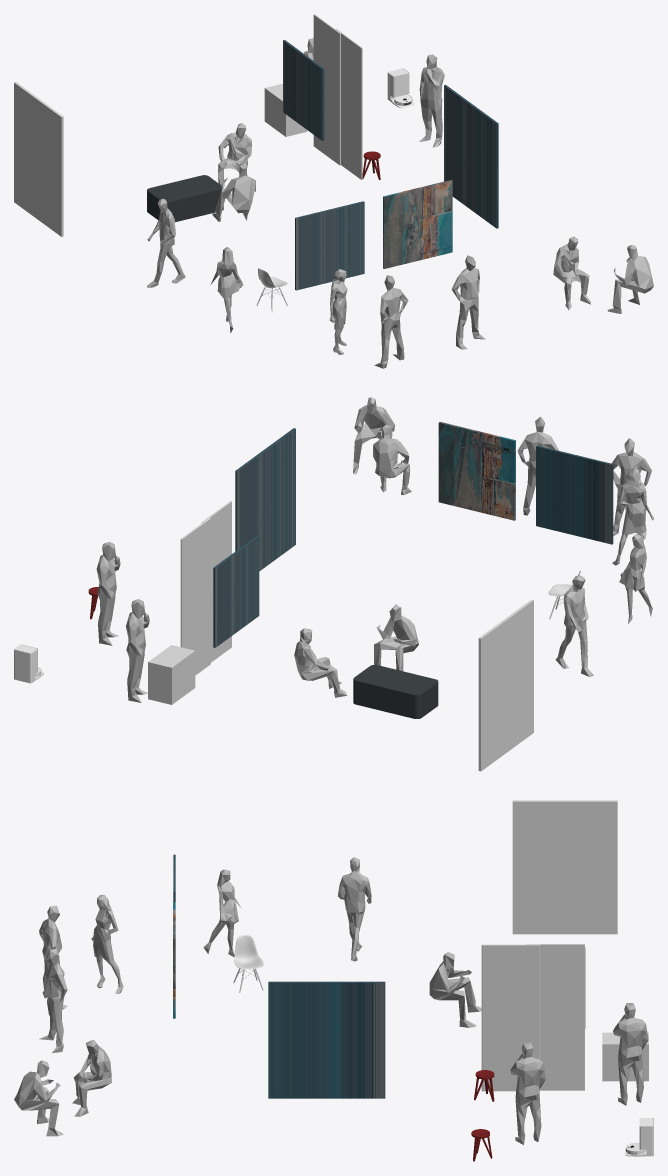
Rendered from EG_People&Möbel.001.glb.
3 views of the same model, one above another, from view 1: azimuth 30°, elevation 25°; view 2: azimuth 150°, elevation 25°; view 3: azimuth 270°, elevation 25° (orthographic). The views are drawn at different scales.
Parts seen in each view (by area): view 1: Curve.027, Gemälde.007, Gemälde.006, Gemälde.005, Gemälde.004, Curve.025, Curve.031, _Curve.002, SM_People_Lowpoly_05.004, SM_People_Lowpoly_06.013, SM_People_Lowpoly_06.014, SM_People_Lowpoly_01.003 (+8 smaller); view 2: Curve.027, Gemälde.005, Gemälde.006, Gemälde.007, Curve.031, Gemälde.004, _Curve.002, Curve.026, SM_People_Lowpoly_08.002, Curve.025, SM_People_Lowpoly_05.004, SM_People_Lowpoly_05.003 (+9 smaller); view 3: Curve.027, Gemälde.007, Curve.025, Curve.031, SM_People_Lowpoly_05.004, SM_People_Lowpoly_05.003, SM_People_Lowpoly_01.004, SM_People_Lowpoly_01.003, SM_People_Lowpoly_08.002, SM_People_Lowpoly_02.004, SM_People_Lowpoly_06.013, SM_People_Lowpoly_04.005 (+5 smaller).
Part boxes in pixels (x1,y1,x2,y2): Curve.027: [14, 82, 63, 236]; Gemälde.007: [444, 85, 498, 228]; Gemälde.006: [383, 180, 452, 268]; Gemälde.005: [295, 201, 364, 290]; Gemälde.004: [283, 40, 324, 140]; Curve.025: [335, 28, 362, 179]; Curve.031: [313, 14, 340, 165]; _Curve.002: [147, 175, 223, 222]; SM_People_Lowpoly_05.004: [419, 54, 444, 147]; SM_People_Lowpoly_06.013: [451, 255, 485, 349]; SM_People_Lowpoly_06.014: [374, 275, 408, 368]; SM_People_Lowpoly_01.003: [607, 245, 653, 313]; Curve.027: [478, 599, 533, 771]; Gemälde.005: [536, 445, 613, 544]; Gemälde.006: [438, 422, 515, 520]; Gemälde.007: [235, 428, 295, 571]; Curve.031: [180, 518, 210, 675]; Gemälde.004: [213, 535, 259, 647]; _Curve.002: [353, 665, 438, 718]; Curve.026: [148, 645, 195, 704]; SM_People_Lowpoly_08.002: [555, 575, 593, 676]; Curve.025: [201, 501, 231, 662]; SM_People_Lowpoly_05.004: [96, 541, 120, 645]; SM_People_Lowpoly_05.003: [126, 599, 149, 702]; Curve.027: [512, 800, 617, 934]; Gemälde.007: [268, 981, 385, 1098]; Curve.025: [481, 944, 540, 1091]; Curve.031: [526, 944, 584, 1090]; SM_People_Lowpoly_05.004: [510, 1042, 545, 1144]; SM_People_Lowpoly_05.003: [613, 1003, 648, 1105]; SM_People_Lowpoly_01.004: [429, 952, 481, 1027]; SM_People_Lowpoly_01.003: [14, 1060, 63, 1136]; SM_People_Lowpoly_08.002: [338, 857, 371, 961]; SM_People_Lowpoly_02.004: [72, 1040, 111, 1116]; SM_People_Lowpoly_06.013: [39, 948, 67, 1052]; SM_People_Lowpoly_04.005: [91, 894, 123, 994].
Bounding box in the file's own units: 9.07 × 2.82 × 10.94.
26 materials, 1 textured.
